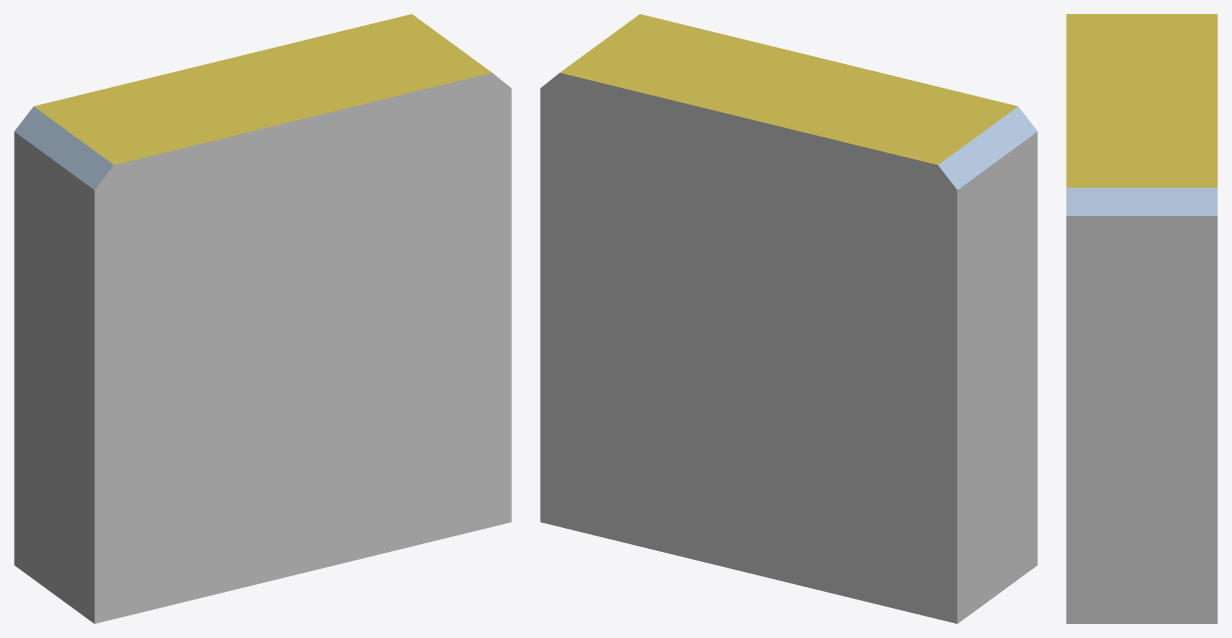
The model's file is Path03.fbx.
3 renders of one model, left to right at view 1: azimuth 30°, elevation 25°; view 2: azimuth 150°, elevation 25°; view 3: azimuth 270°, elevation 25°, orthographic. The views are drawn at different scales.
Visible parts, largest first — view 1: Path_03; view 2: Path_03; view 3: Path_03.
Part boxes in pixels (x1,y1,x2,y2): Path_03: (14,14,511,623); Path_03: (540,14,1037,623); Path_03: (1066,14,1217,623).
Size of the model in its own units: 300 by 312 by 100.
